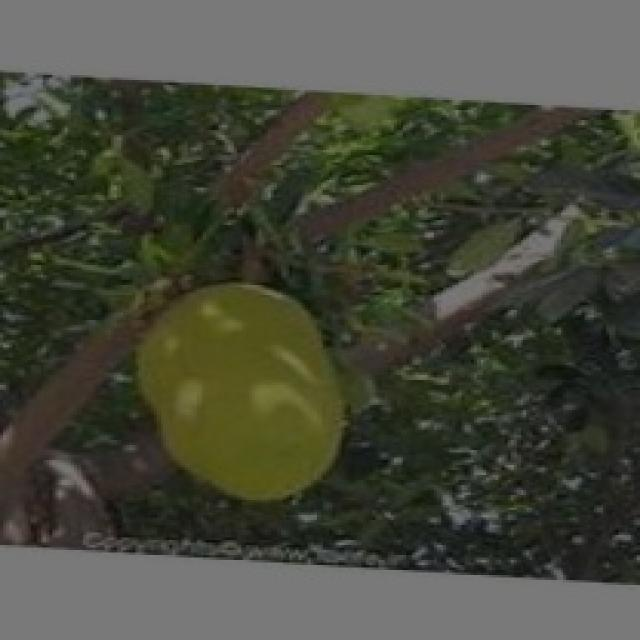Fruit: (114, 255, 369, 515)
